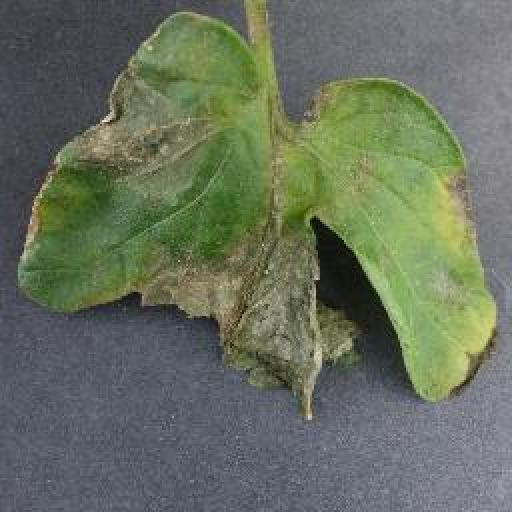Late Blight: (19, 11, 496, 424)
